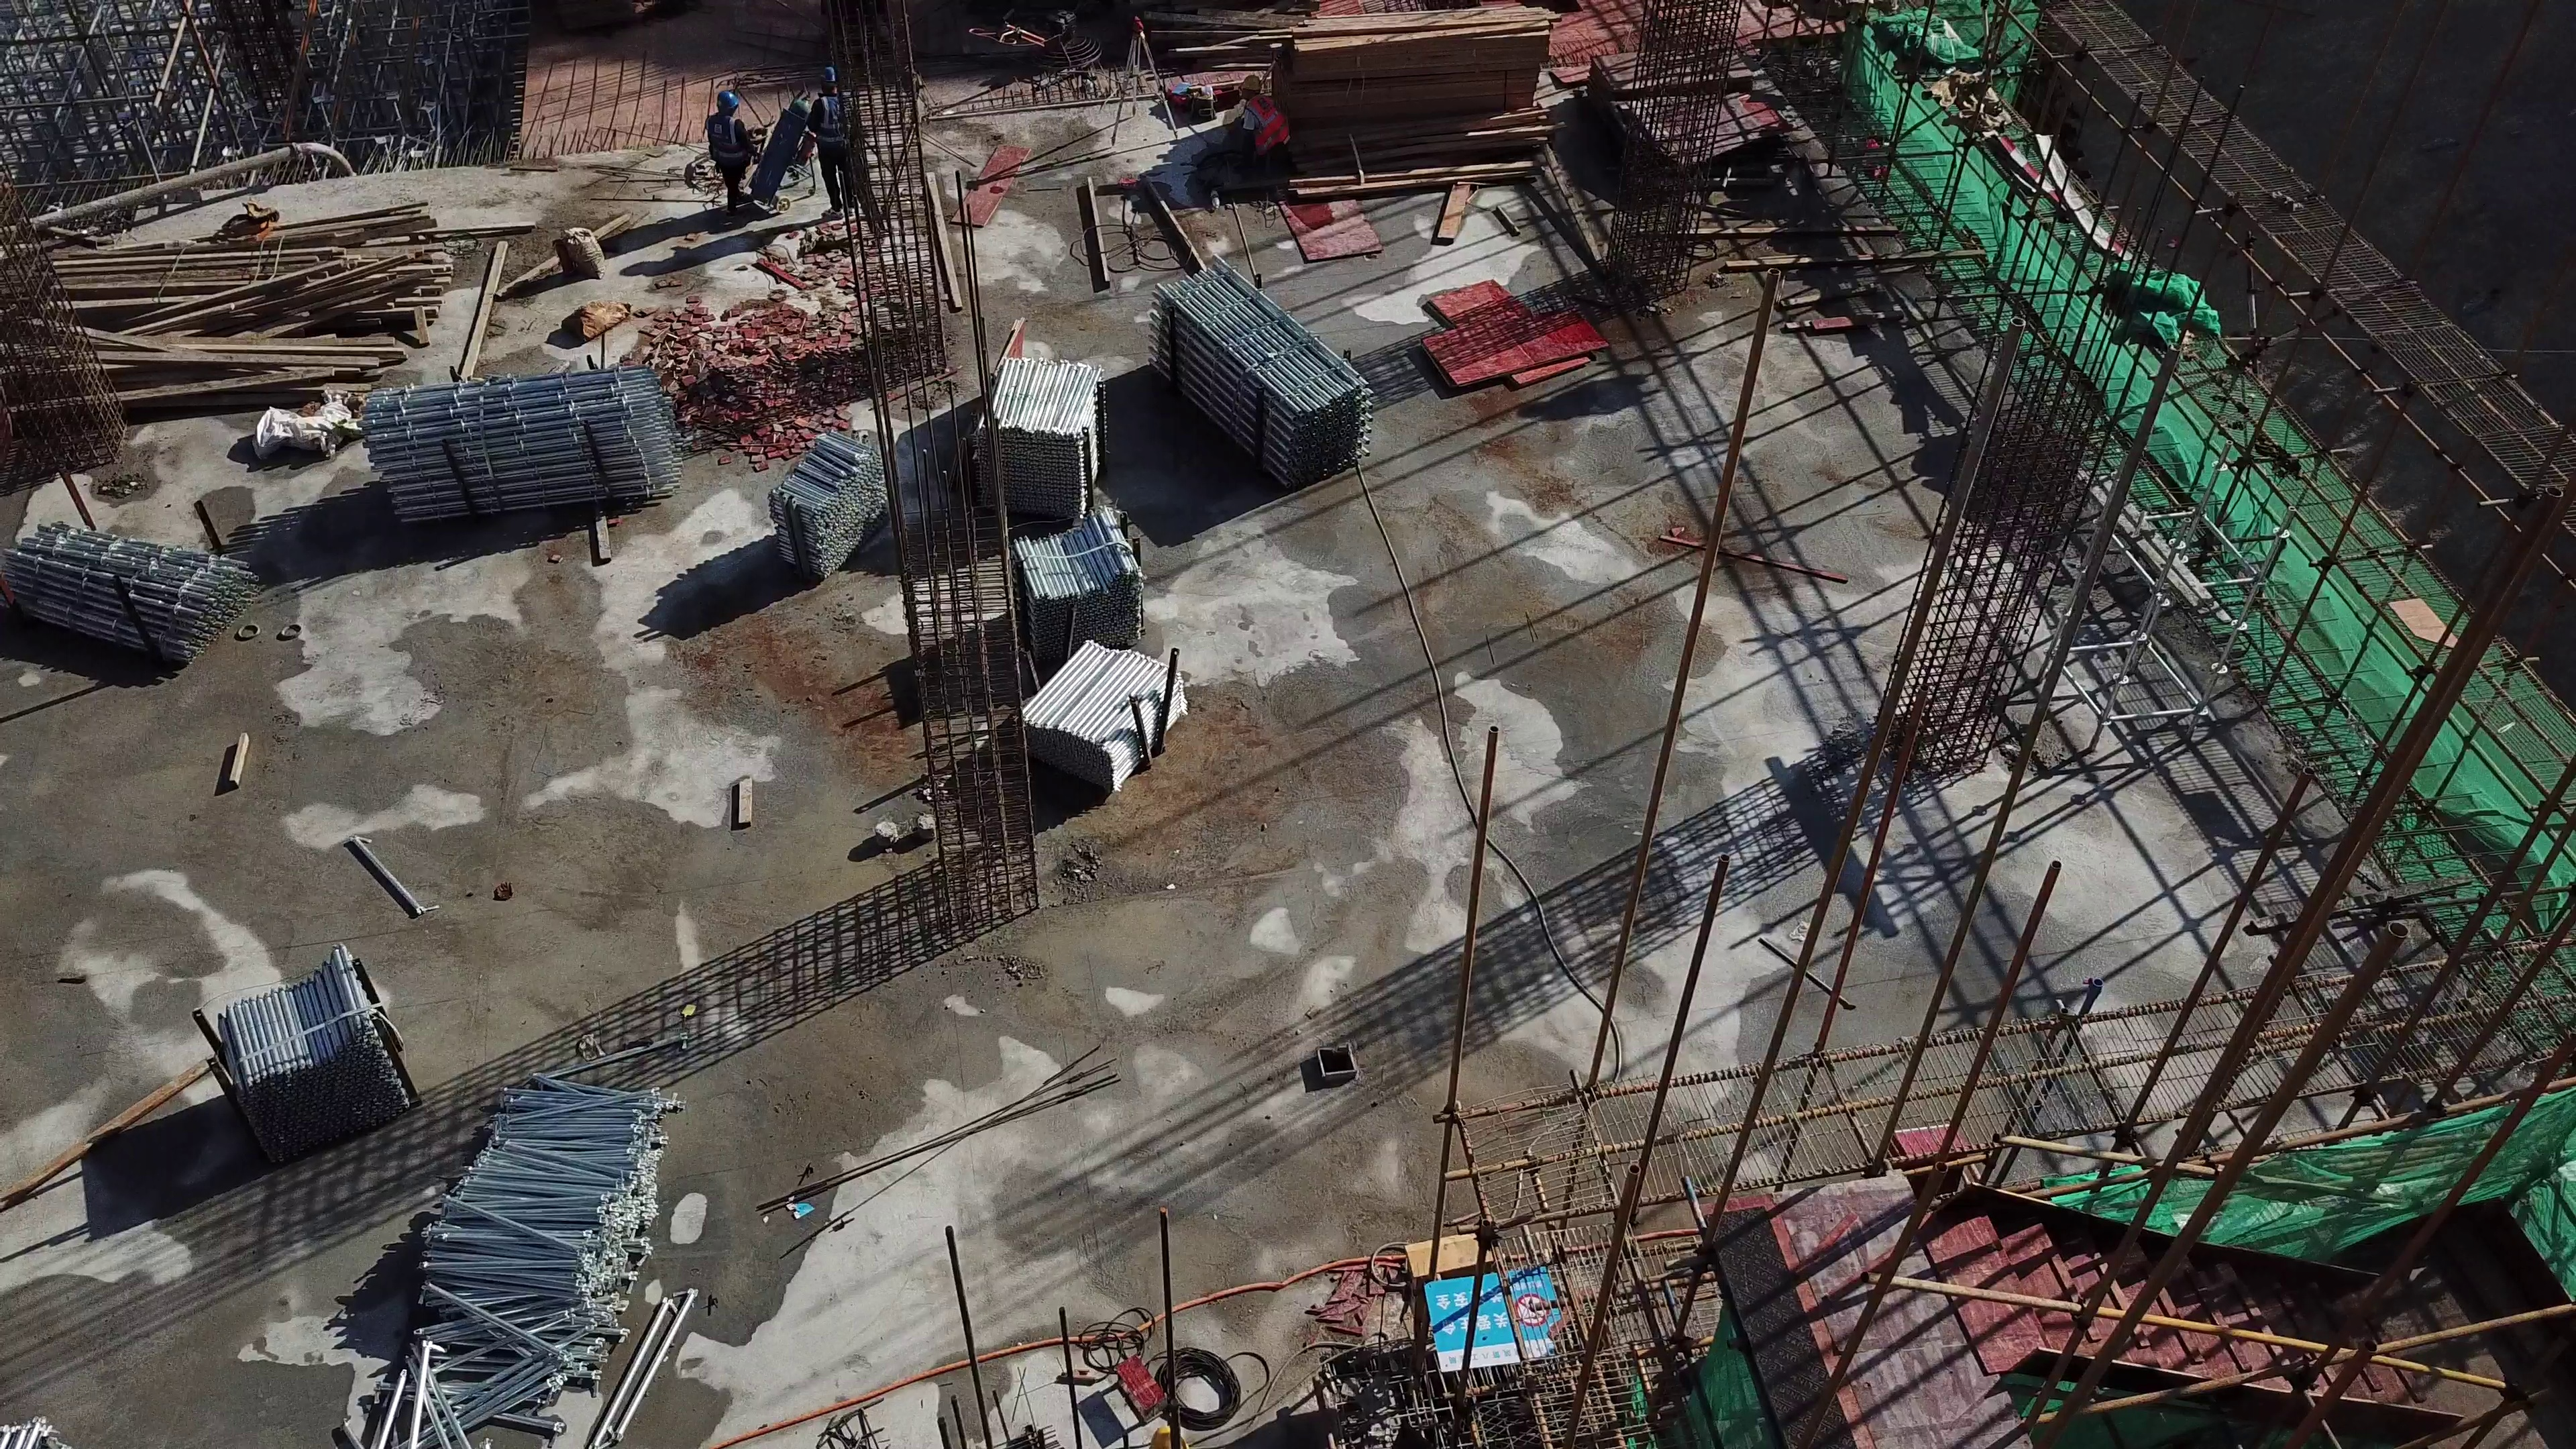board: (1412, 283, 1606, 392)
helmet: (714, 88, 743, 112), (1240, 73, 1264, 95)
person: (810, 60, 867, 223), (703, 81, 757, 213), (1236, 70, 1291, 178)
scaffold: (401, 1064, 681, 1392), (1145, 259, 1378, 490), (344, 362, 686, 515), (201, 935, 427, 1165), (12, 520, 249, 667), (1014, 631, 1199, 790), (971, 343, 1105, 515), (1008, 508, 1152, 651), (763, 416, 878, 581)
wood: (5, 201, 458, 405), (1234, 6, 1566, 197)
